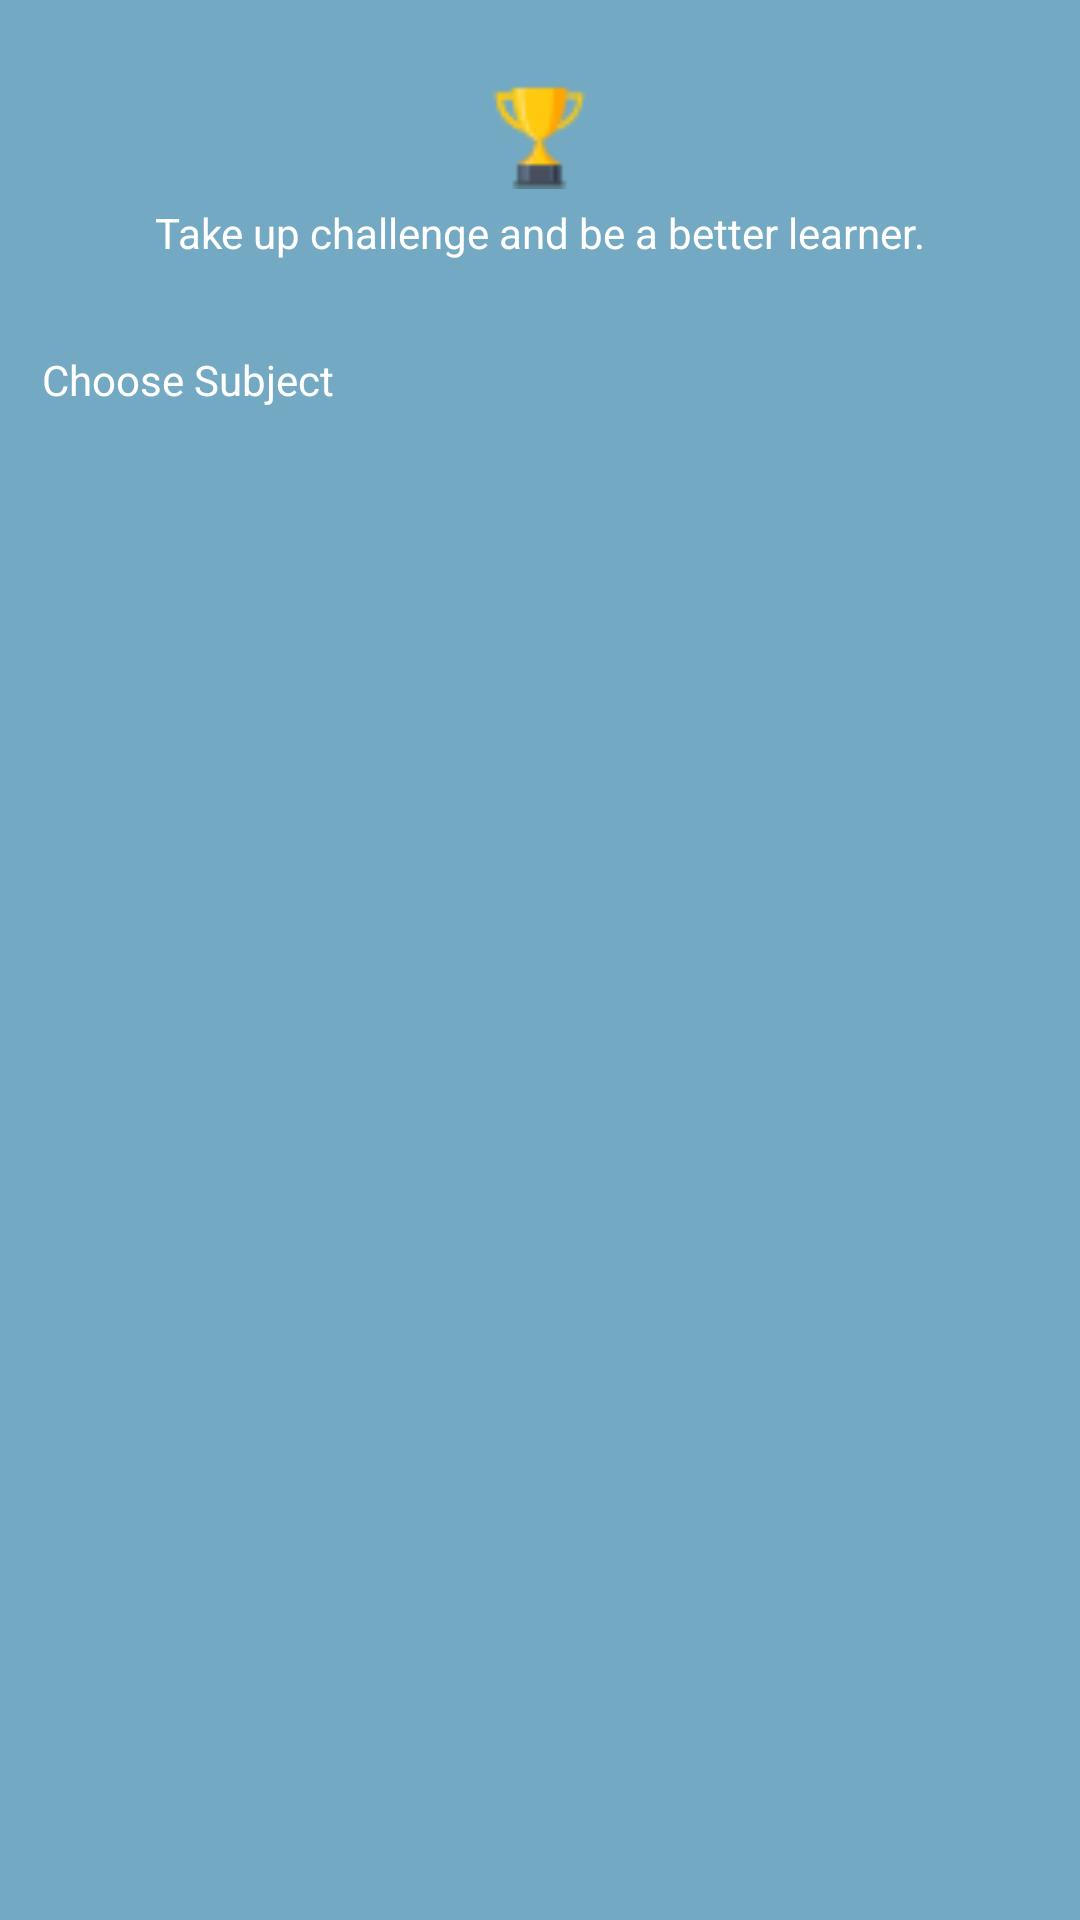

Screen size 1080w x 1920h. Icon name, then its box in pixels as [x1,y1,x2,y2]:
trophy: [493,86,586,189]
